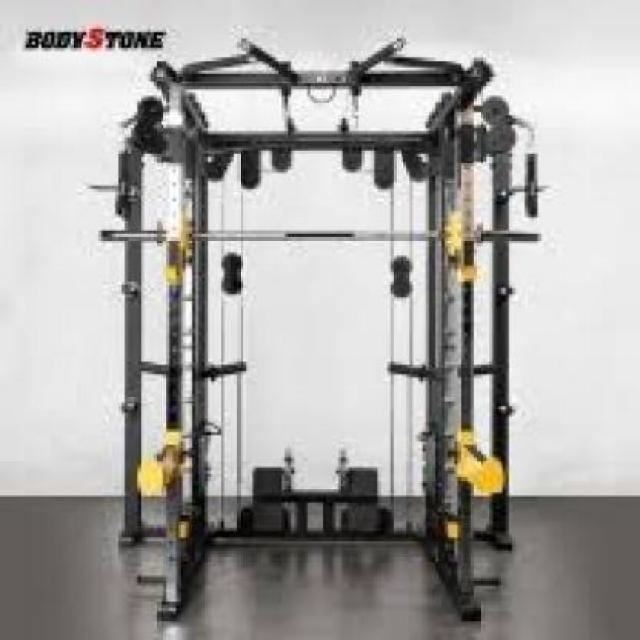smith machine: (89, 52, 549, 625)
